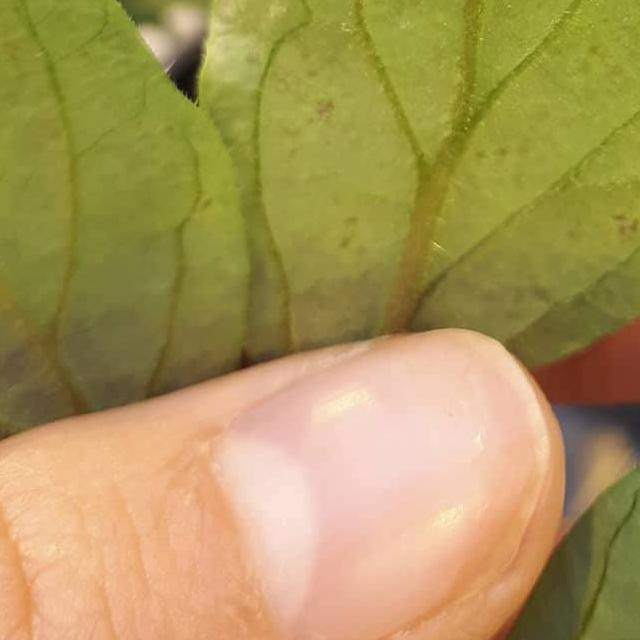Tomato mold leaf: (171, 0, 640, 459)
